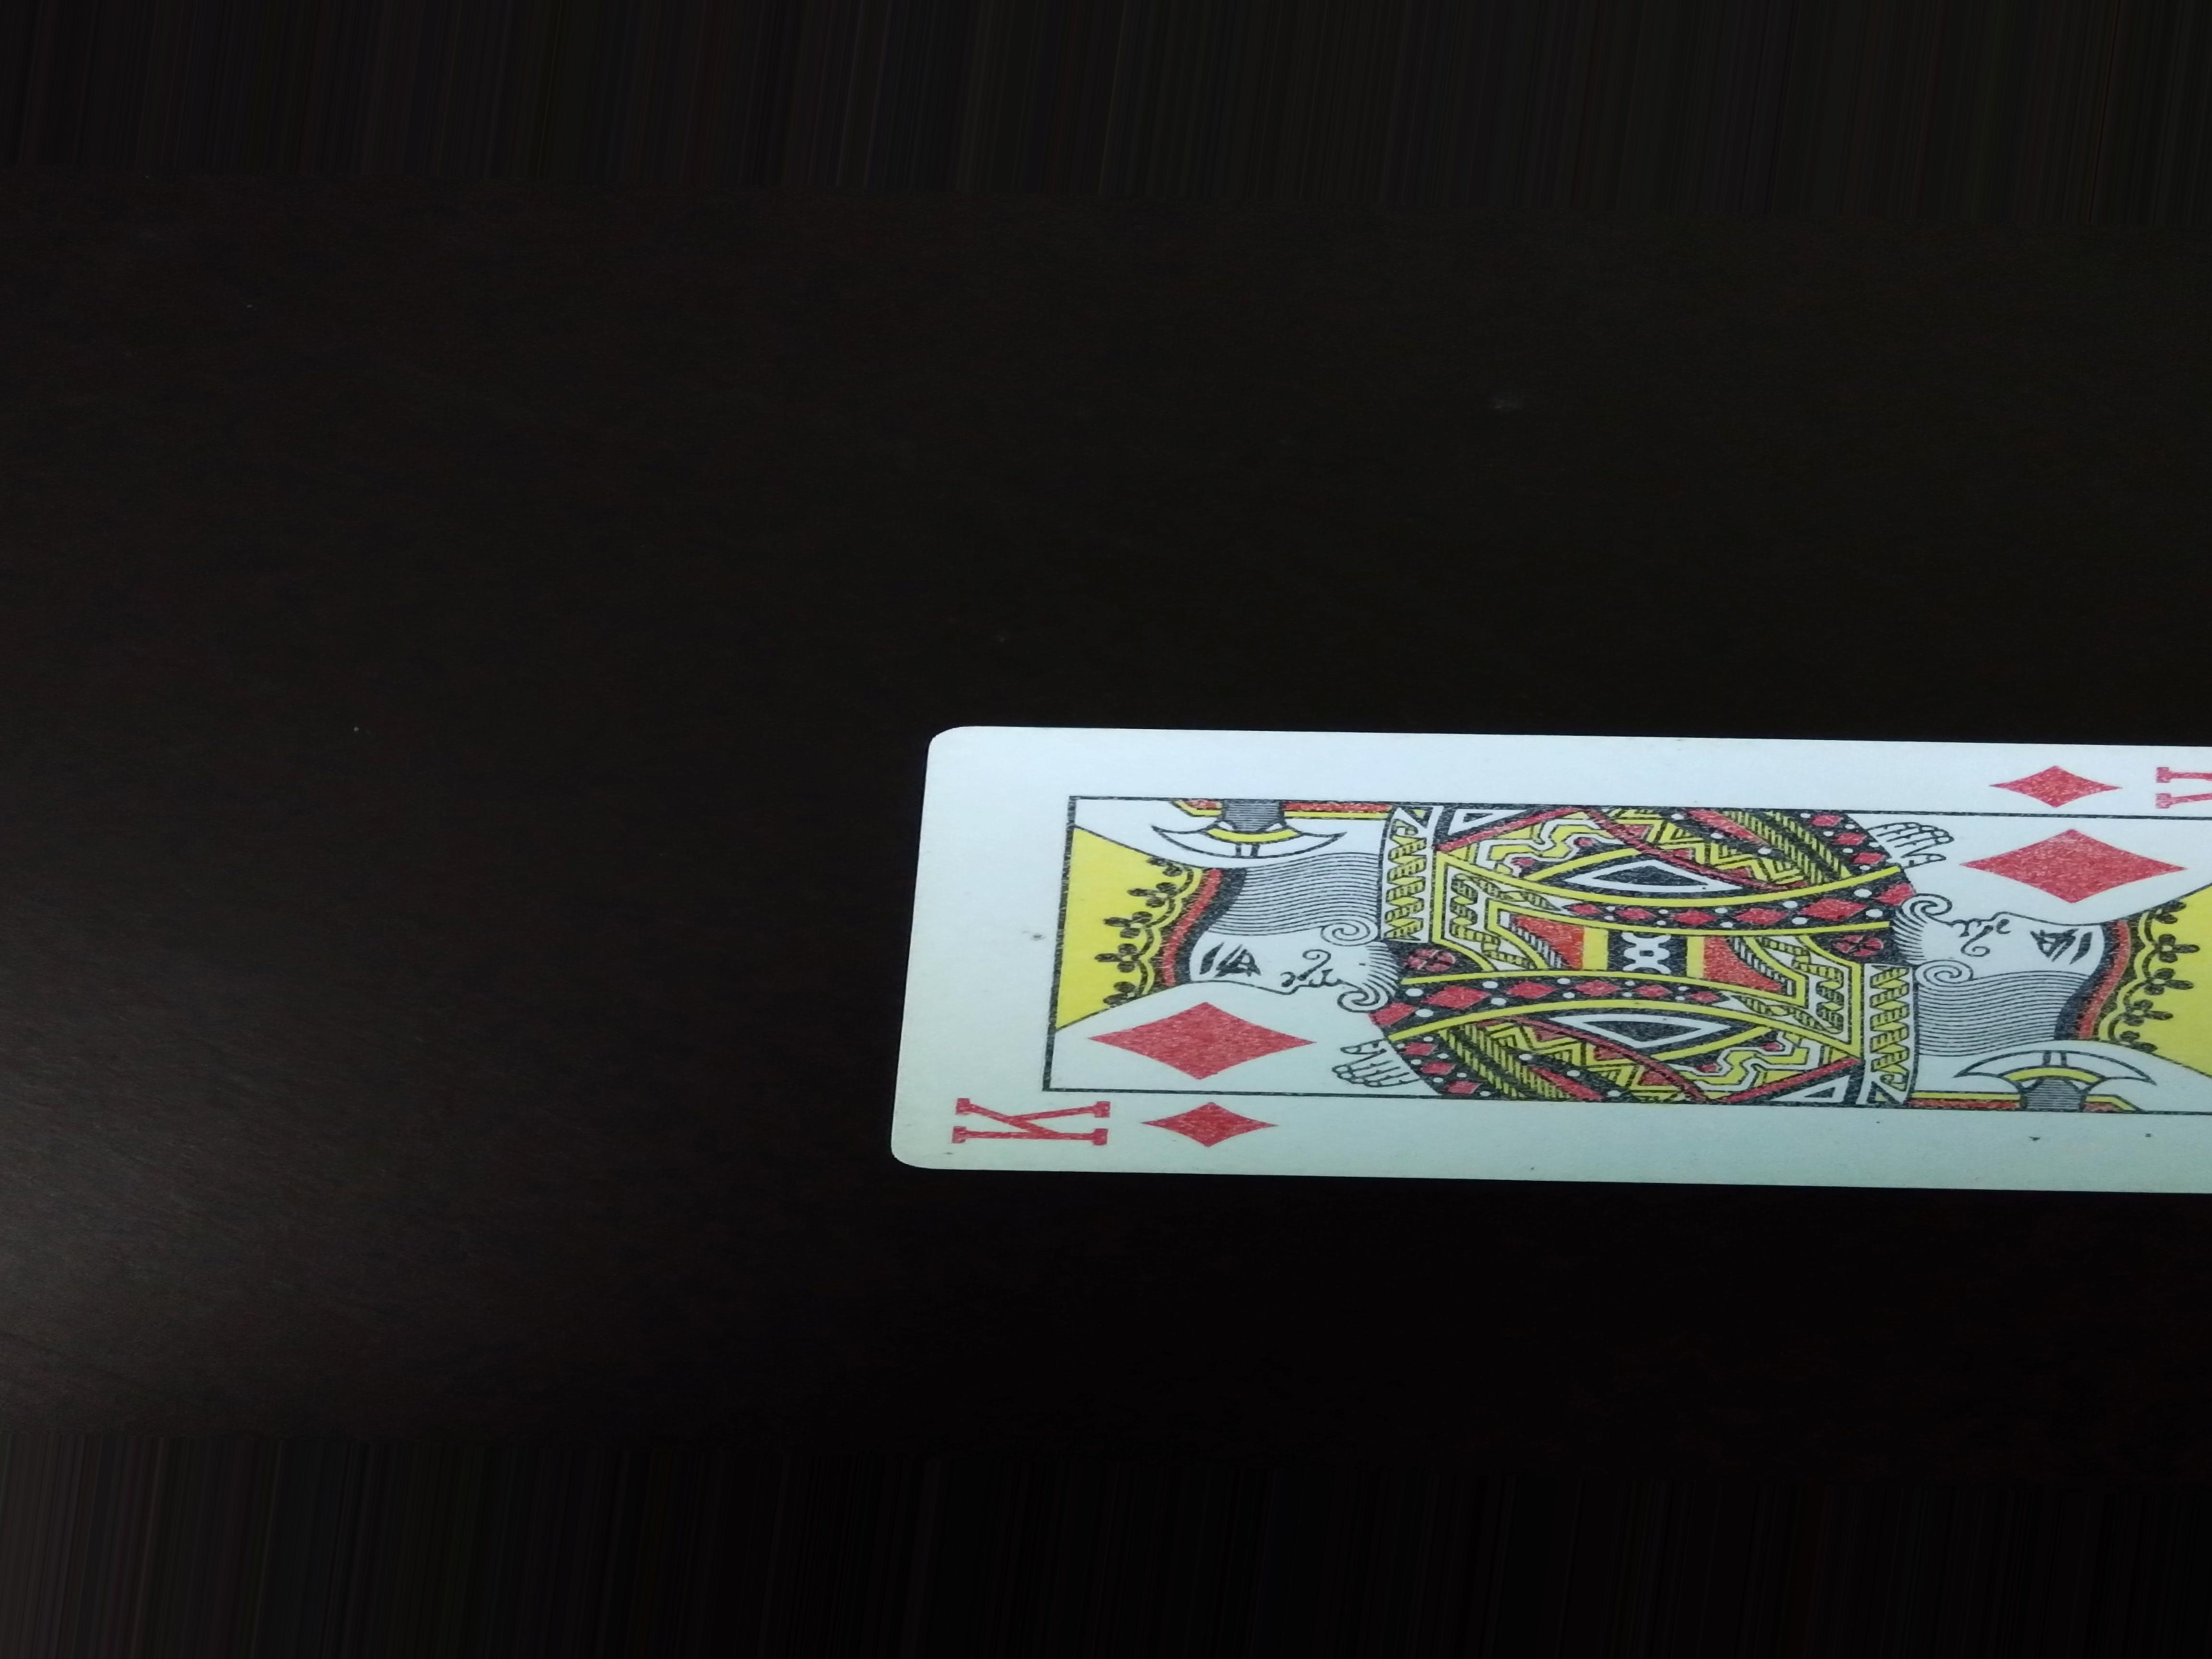KD: (920, 1094, 1287, 1157)
